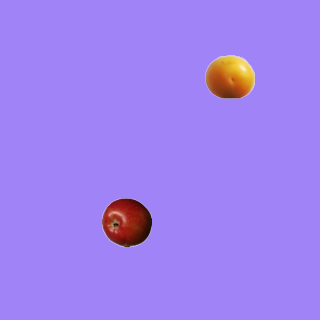Apple Braeburn: (101, 197, 151, 247)
Cherry Wax Yellow: (204, 51, 254, 101)
